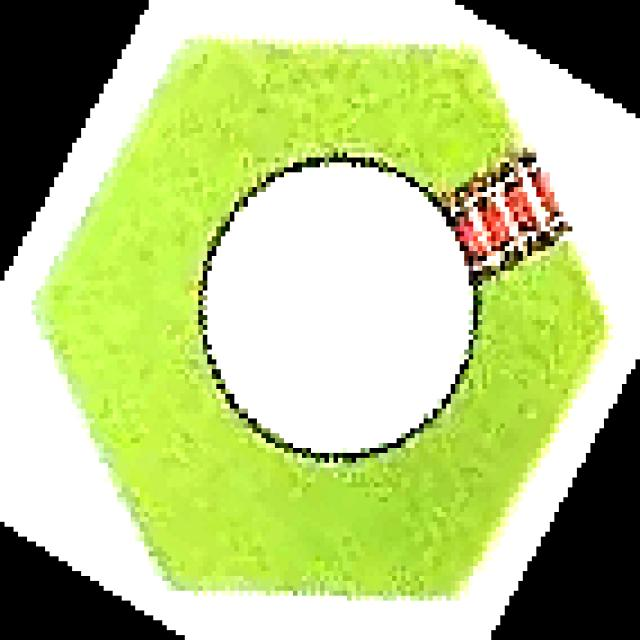13_4: (28, 39, 604, 600)
